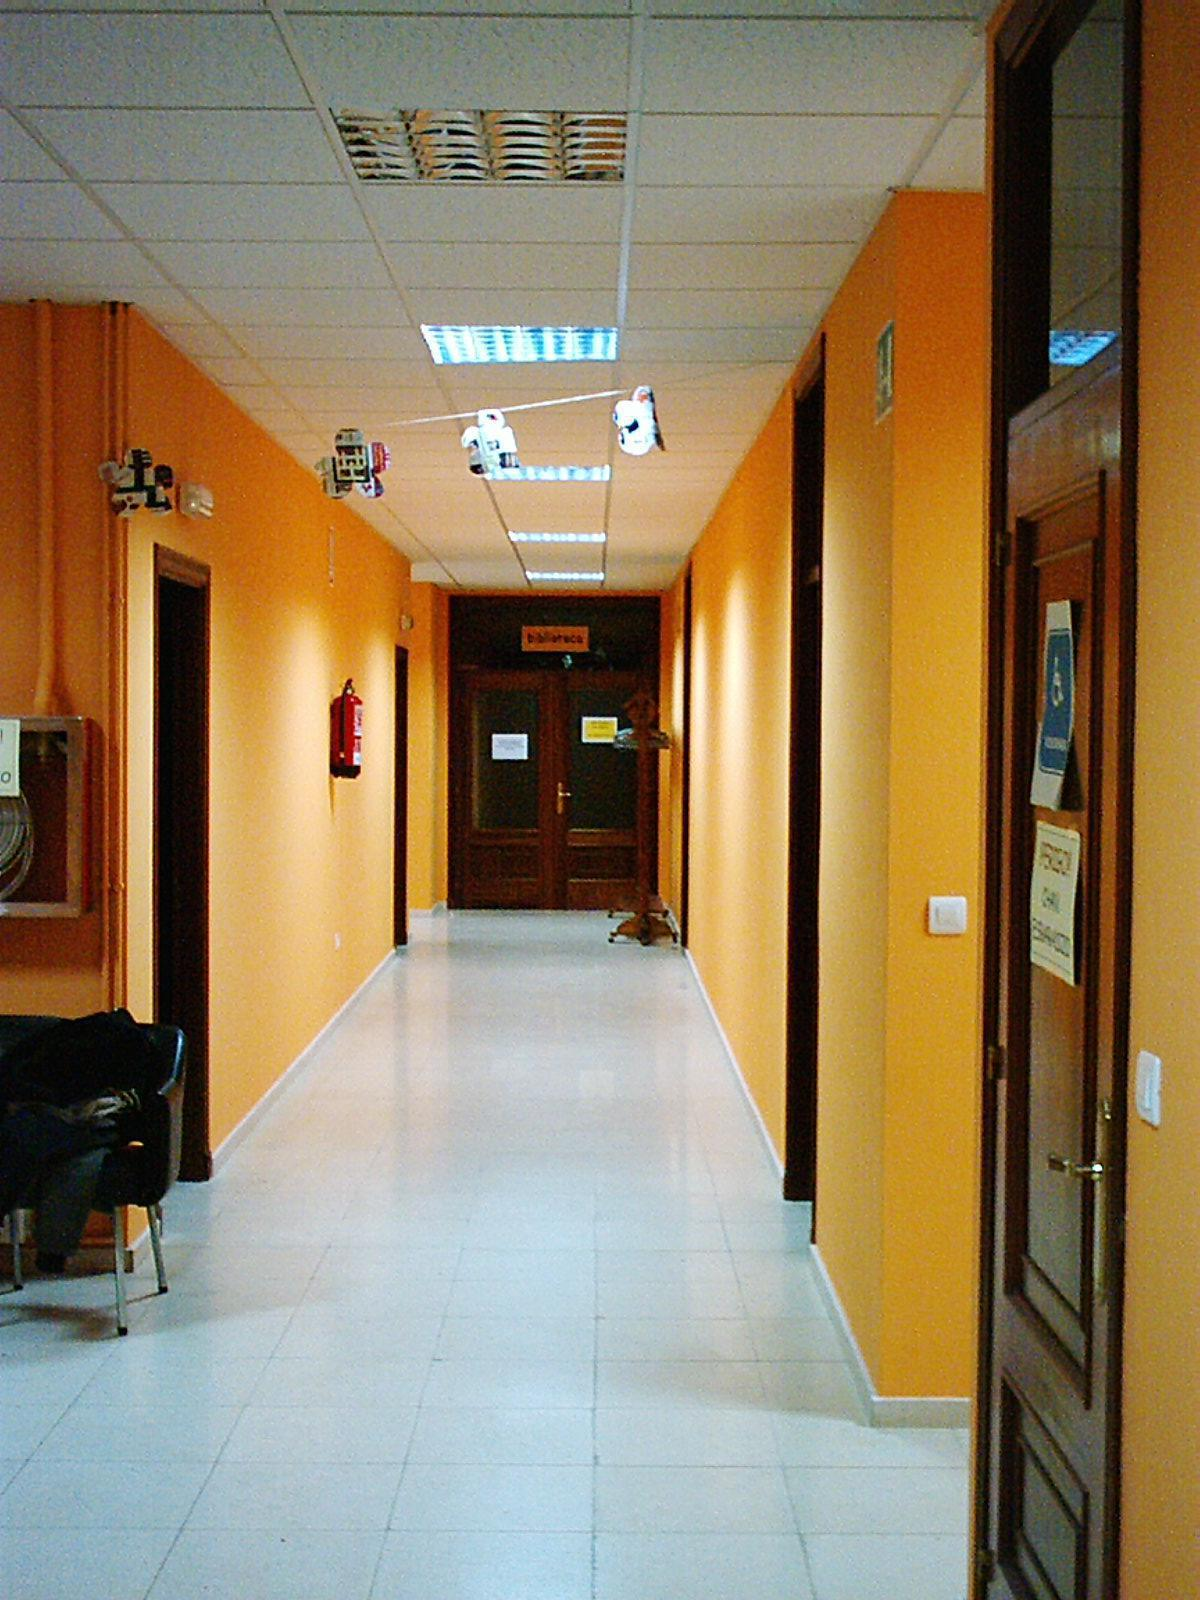Puerta: (1000, 435, 1116, 1574)
